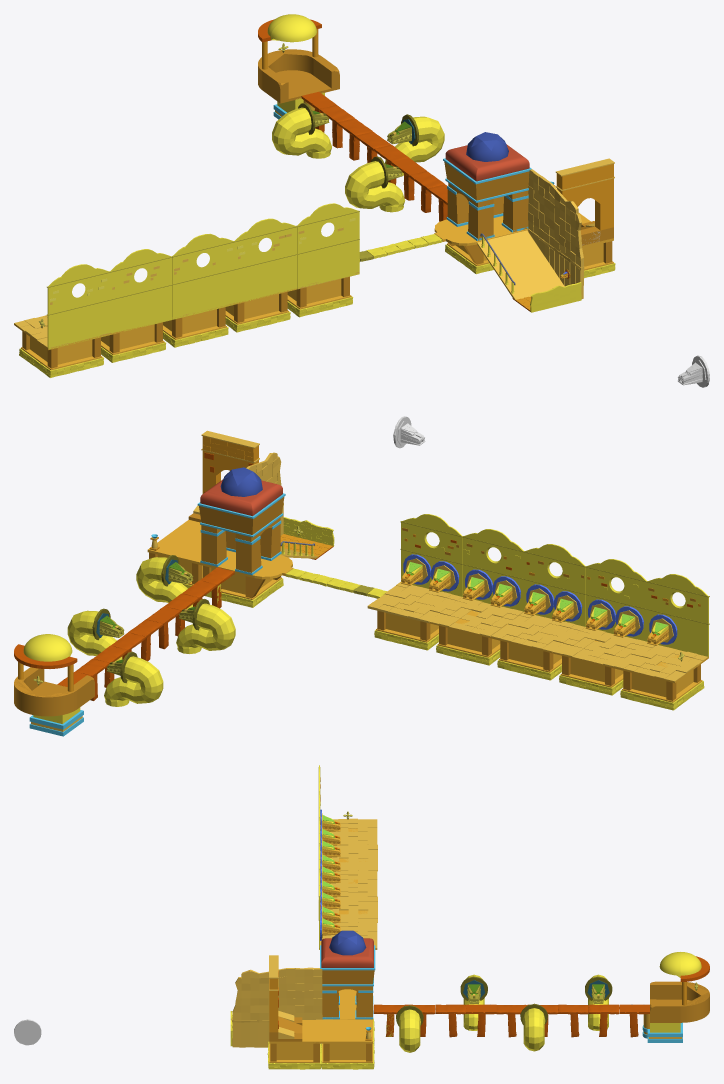
File: TemploSol6.fbx
The picture shows the model from 3 angles, top to bottom: view 1: azimuth 30°, elevation 25°; view 2: azimuth 150°, elevation 25°; view 3: azimuth 270°, elevation 25°; orthographic projection. The views are drawn at different scales.
Parts seen in each view (by area): view 1: Plane.030, Plane.003, Plane.121, Plane.098, Plane.109, Plane.053, Plane.123, Plane.075, Plane.100, Plane.111, Plane.085, Plane.087 (+23 smaller); view 2: Plane.100, Plane.111, Plane.123, Plane.087, Plane.075, Plane.163, Plane.164, Plane.160, Plane.162, Vert.001, Vert, Plane.161 (+35 smaller); view 3: Plane.030, Plane.016, Circle.034, Circle.031, Plane.164, Plane.047, Plane.162, Plane.163, Plane.161, Vert.002, Vert.003, Plane.049 (+7 smaller).
Boxes of the visible parts, <box> form: Plane.030: <box>528,169,584,298</box>; Plane.003: <box>477,230,564,300</box>; Plane.121: <box>47,300,110,349</box>; Plane.098: <box>172,270,234,319</box>; Plane.109: <box>110,285,172,333</box>; Plane.053: <box>297,239,359,289</box>; Plane.123: <box>47,264,110,314</box>; Plane.075: <box>297,203,359,253</box>; Plane.100: <box>172,233,234,284</box>; Plane.111: <box>110,249,172,299</box>; Plane.085: <box>235,255,296,304</box>; Plane.087: <box>235,218,296,269</box>; Plane.100: <box>524,544,585,593</box>; Plane.111: <box>585,559,646,608</box>; Plane.123: <box>647,574,708,623</box>; Plane.087: <box>462,529,523,578</box>; Plane.075: <box>401,514,462,563</box>; Plane.163: <box>552,627,646,666</box>; Plane.164: <box>613,641,708,681</box>; Plane.160: <box>367,581,461,621</box>; Plane.162: <box>491,611,584,651</box>; Vert.001: <box>104,656,163,706</box>; Vert: <box>176,603,235,653</box>; Plane.161: <box>428,597,523,636</box>; Plane.030: <box>231,967,322,1047</box>; Plane.016: <box>320,1020,372,1043</box>; Circle.034: <box>650,981,680,1022</box>; Circle.031: <box>650,982,709,1022</box>; Plane.164: <box>330,818,377,845</box>; Plane.047: <box>321,938,373,967</box>; Plane.162: <box>330,870,377,896</box>; Plane.163: <box>330,844,377,871</box>; Plane.161: <box>330,896,377,922</box>; Vert.002: <box>398,1009,420,1052</box>; Vert.003: <box>523,1008,545,1051</box>; Plane.049: <box>322,970,374,984</box>.
Size of the model in its own units: 8058 by 1757 by 10599.
